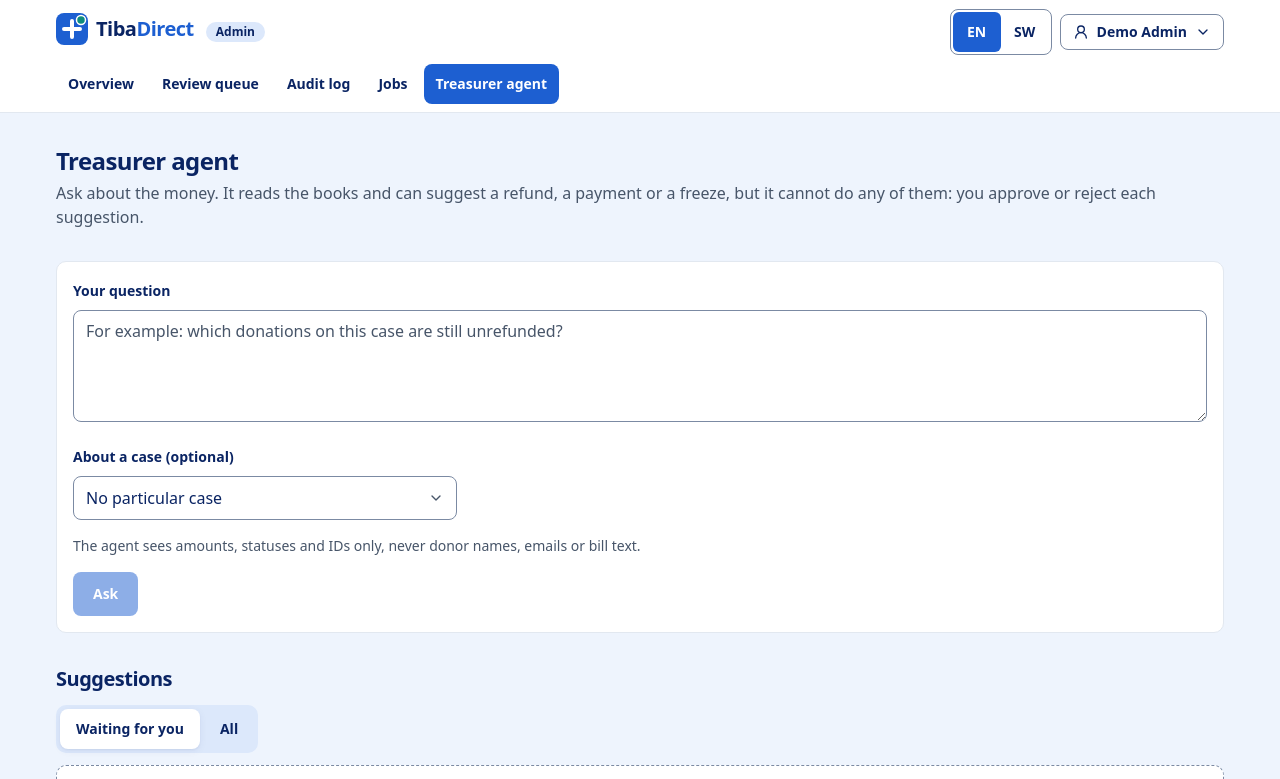
Test: treasurer agent › explains when no language model is set up
Type "Anything unusual?" into the text box labelled "Your question".
click(640, 366); type("Anything unusual?")  # box [73,310,1207,422]
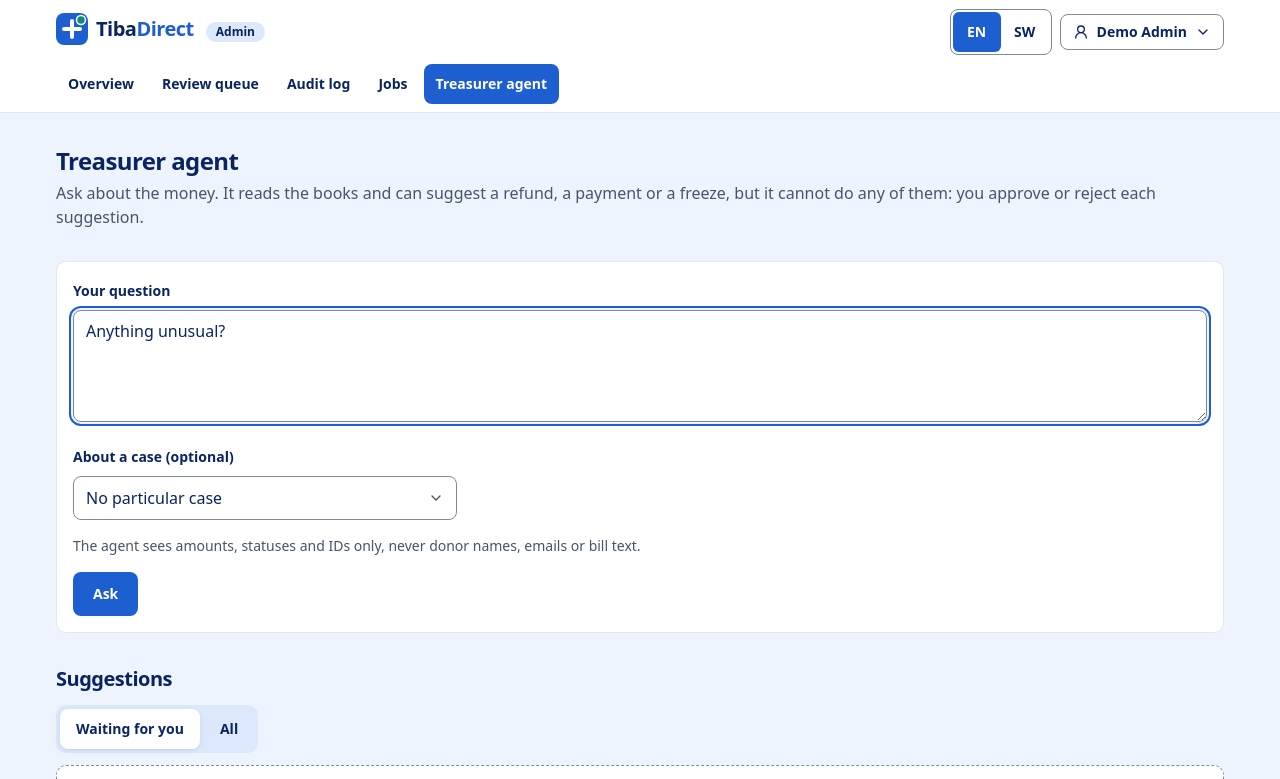
Click the button "Ask".
click(106, 594)  # box [73,572,138,616]
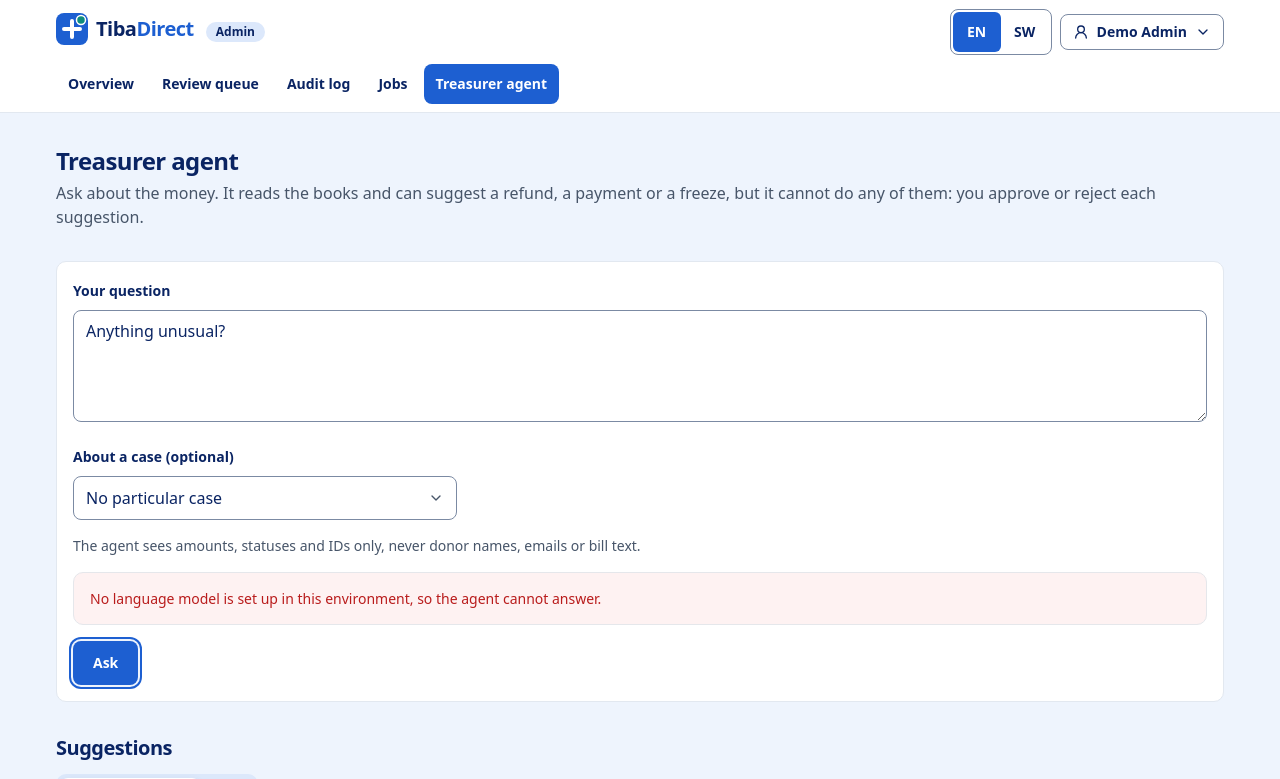
Expected: the text "No language model is set up in this environment" is shown, [90,589,601,608]
